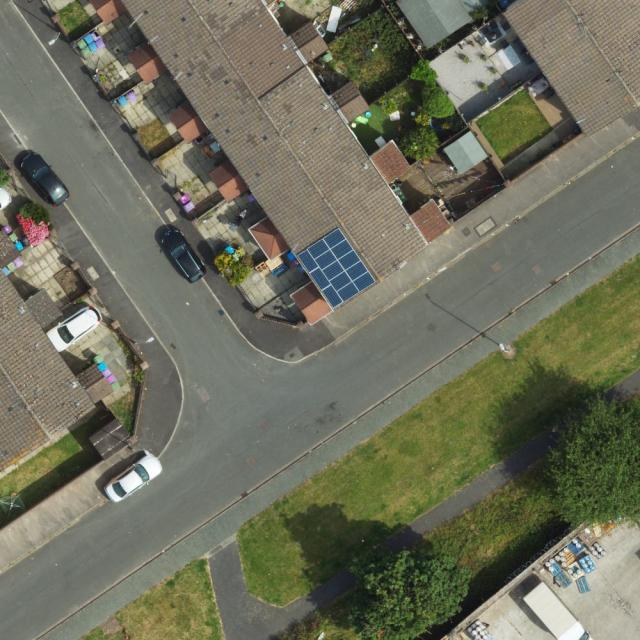roof: (90, 0, 455, 326), (1, 270, 113, 473), (502, 1, 640, 140)
solar: (296, 229, 377, 309)
